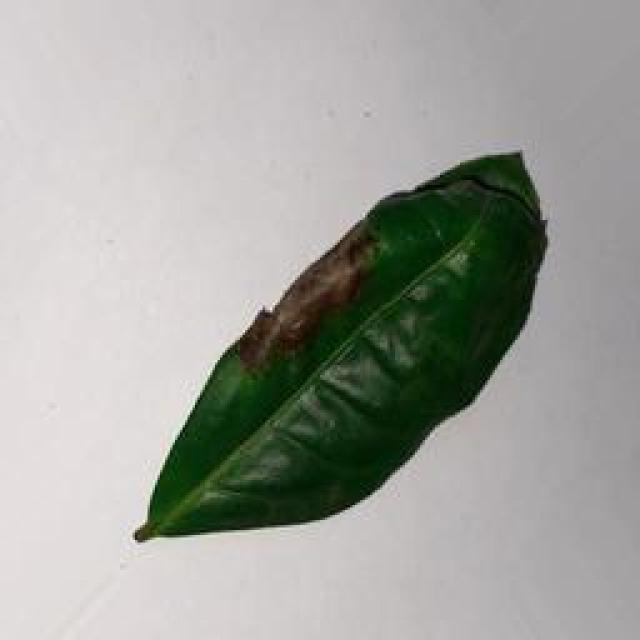Brown Blight: (130, 135, 553, 537)
